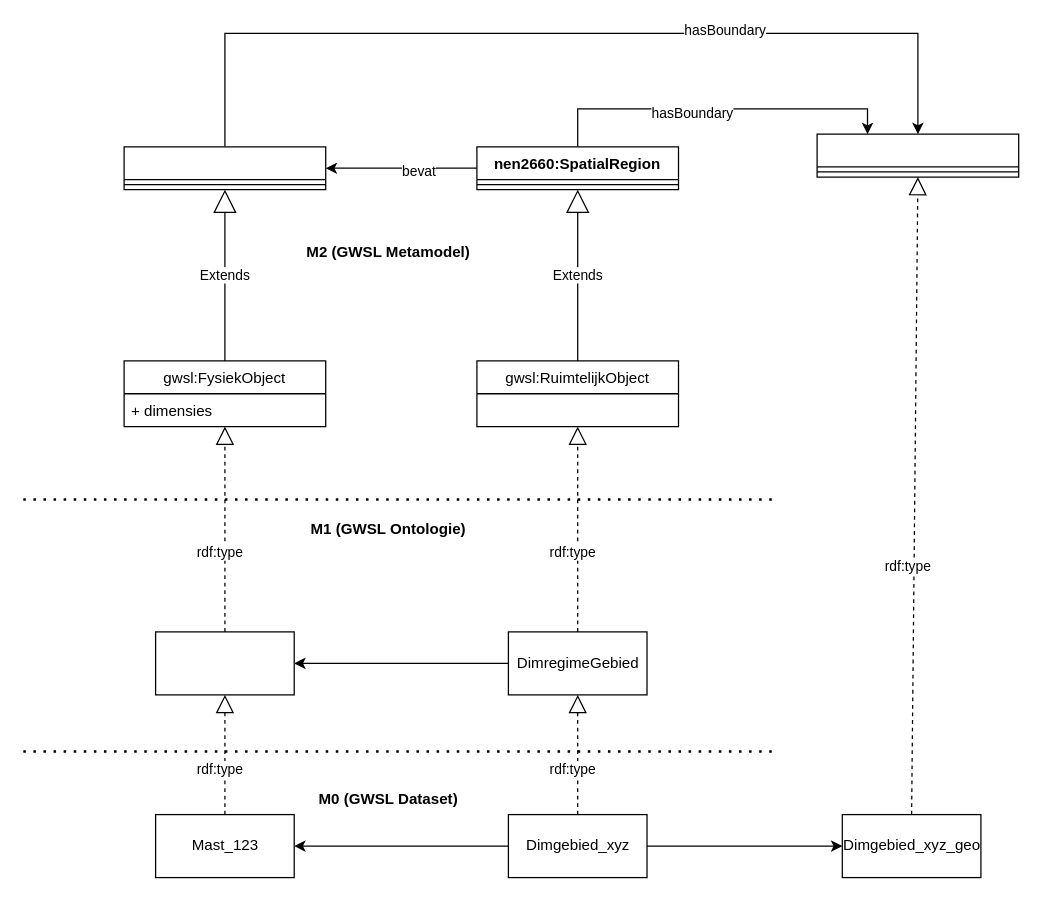
Some shapes in this 1041 by 900 pixel diagram are drawn without their labels. Here are the shapes that lost their labels. From the top down, the centre of each, then its label:
pixel 224 168: nen2660:DiscreteObject
pixel 917 155: nen2660:GeometricEntity
pixel 224 663: Mast
